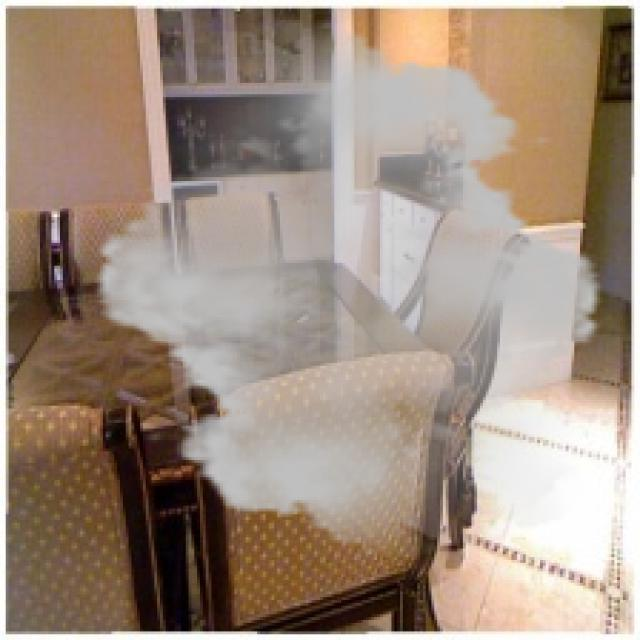Smoke: (74, 20, 623, 557)
